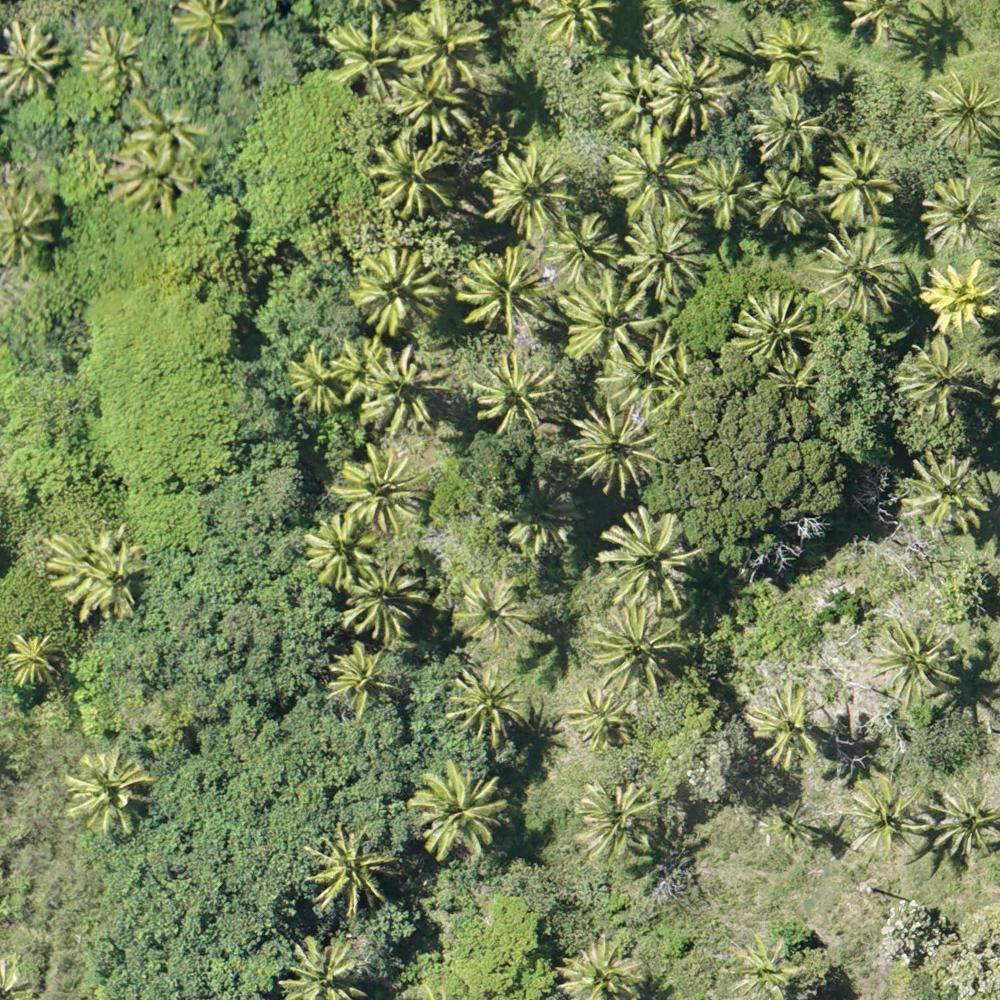Palm: (602, 509, 695, 605), (411, 763, 503, 860), (557, 271, 656, 361), (868, 621, 965, 710), (361, 342, 452, 433), (812, 225, 903, 316), (569, 400, 658, 493), (398, 2, 491, 88), (593, 606, 684, 693), (465, 244, 555, 331), (62, 750, 150, 838), (307, 822, 391, 911), (335, 445, 422, 530), (895, 455, 987, 535), (653, 50, 738, 133), (746, 683, 824, 773), (371, 138, 454, 222), (492, 145, 575, 229), (357, 249, 439, 330), (576, 780, 658, 861), (820, 141, 900, 223), (898, 339, 979, 419), (734, 289, 815, 369), (474, 355, 558, 431), (612, 133, 692, 212), (342, 560, 423, 638), (750, 85, 828, 166), (301, 515, 380, 593), (392, 73, 478, 144), (629, 215, 705, 295), (842, 779, 923, 854), (925, 778, 1000, 859), (562, 932, 649, 1000), (1, 175, 65, 267), (923, 263, 1000, 339), (112, 140, 195, 210), (549, 214, 628, 286), (931, 71, 999, 154), (329, 17, 402, 94), (921, 180, 1000, 250), (448, 667, 523, 740), (283, 936, 368, 999), (600, 334, 673, 407), (326, 645, 401, 715), (2, 18, 66, 99), (456, 577, 531, 646), (725, 938, 806, 1000), (692, 151, 756, 225), (601, 58, 664, 133), (573, 685, 638, 757), (81, 23, 147, 90), (758, 18, 819, 89), (79, 548, 145, 612), (751, 171, 816, 232), (1, 629, 66, 688), (285, 347, 342, 412), (172, 1, 238, 51), (761, 801, 819, 850)
